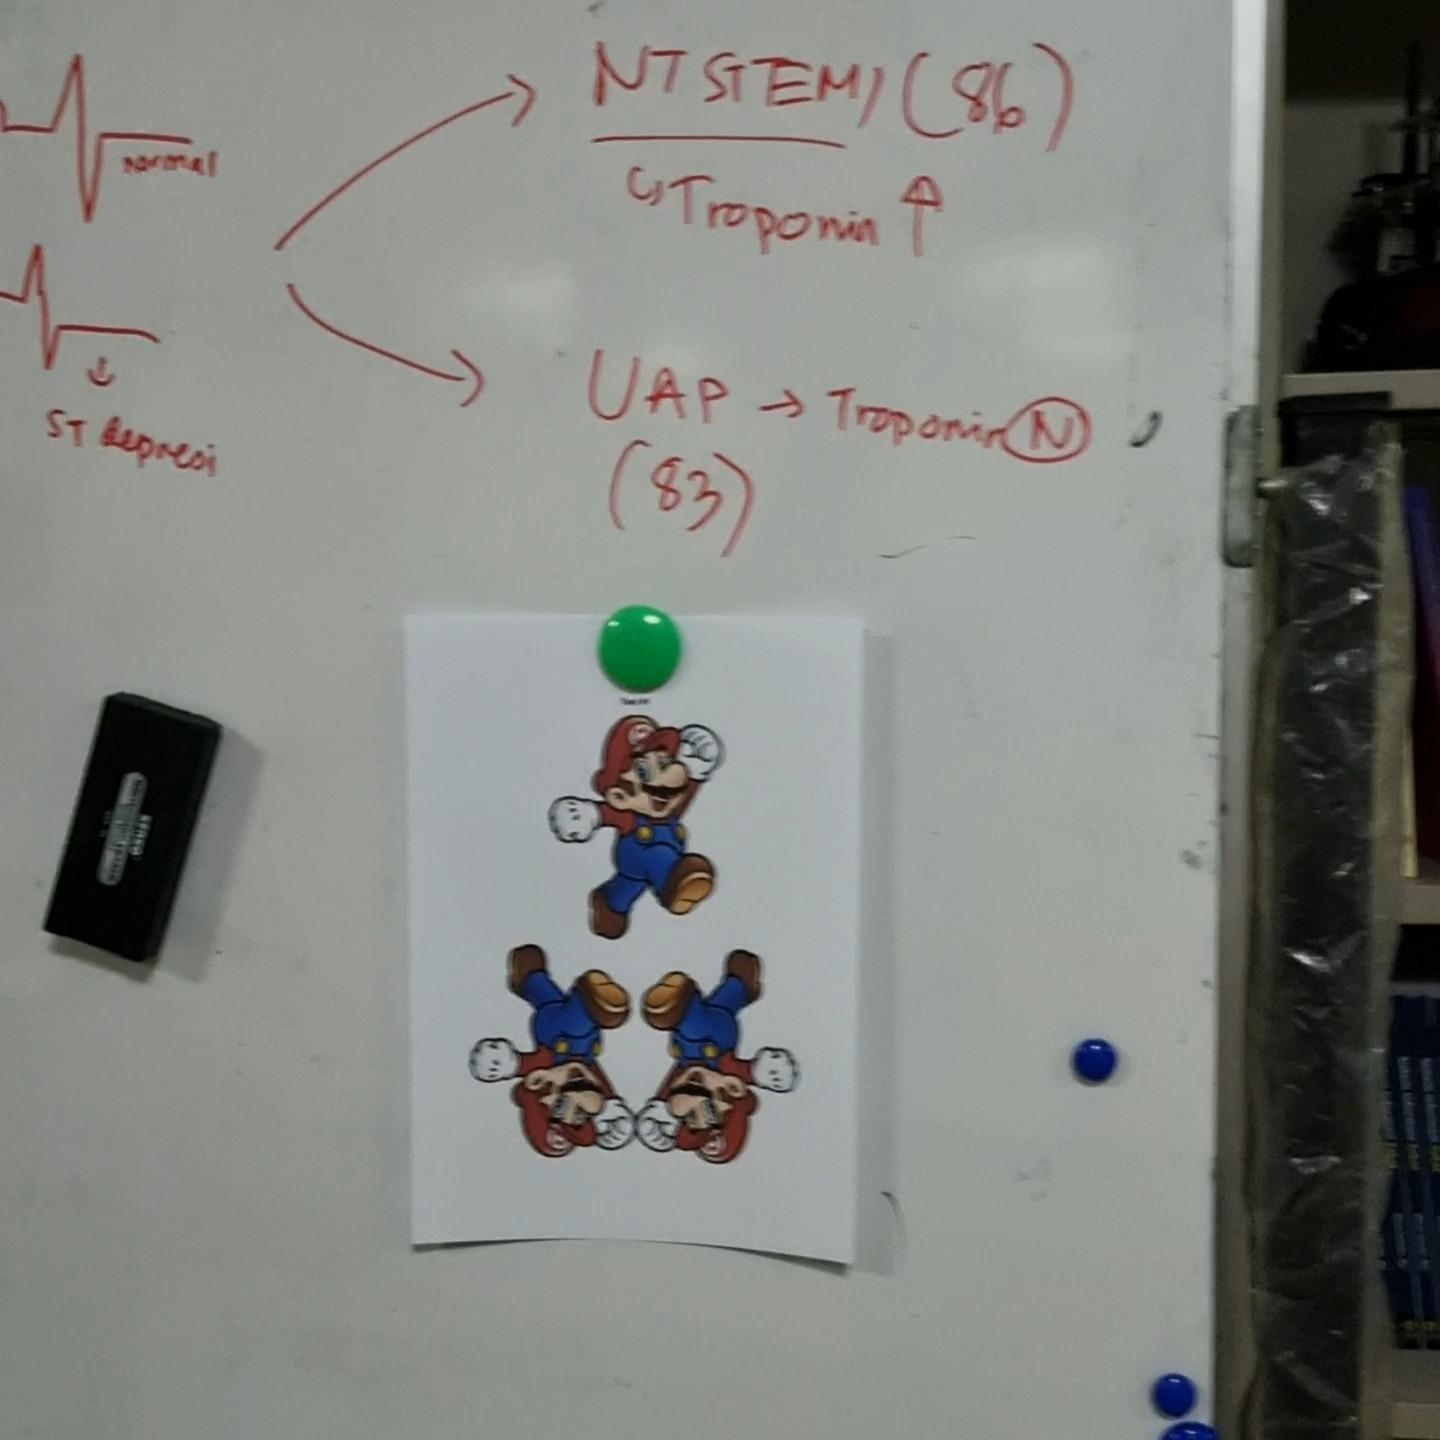mario: (547, 702, 735, 943), (462, 936, 641, 1176), (637, 945, 812, 1182)
